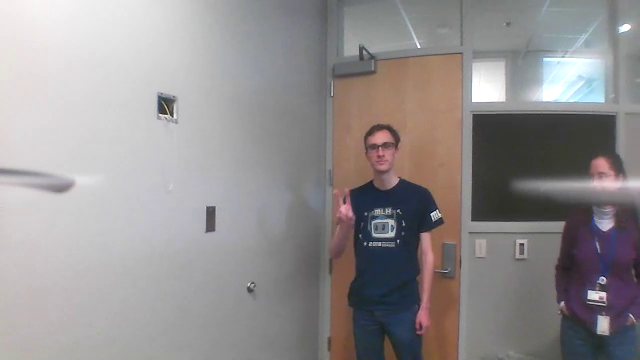peace: (333, 183, 361, 226)
